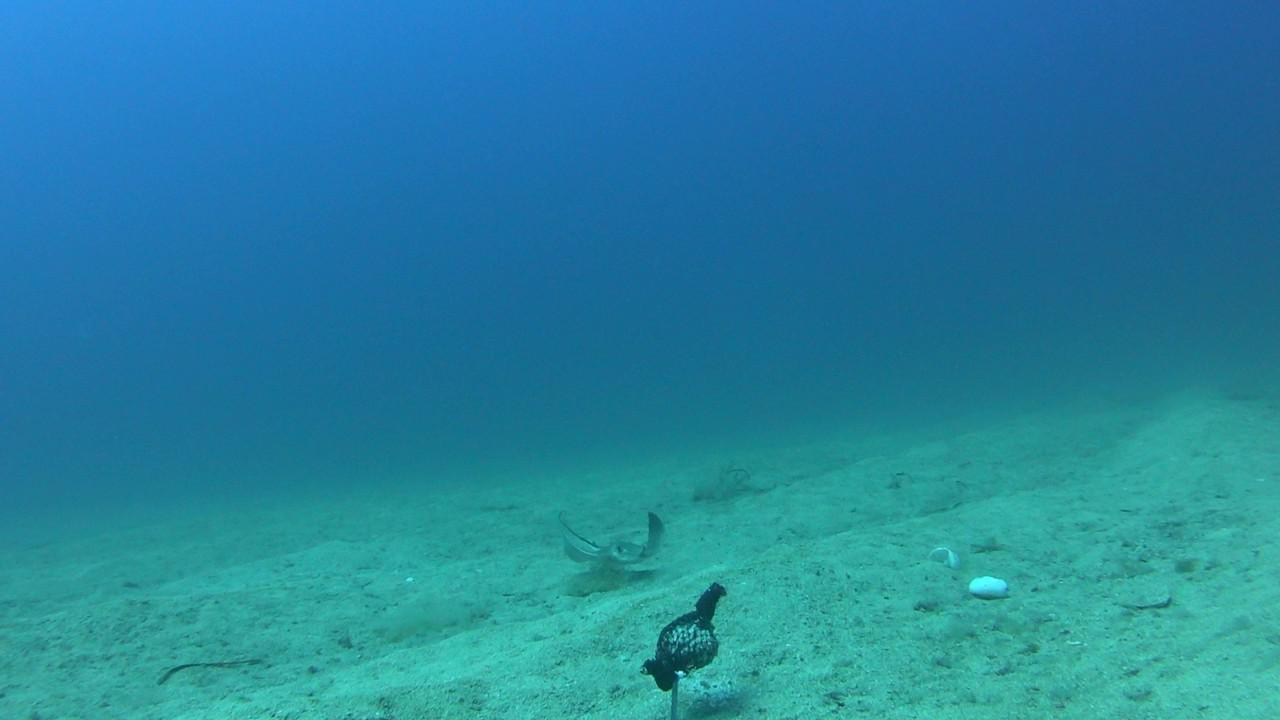myliobatis: (536, 498, 698, 572)
